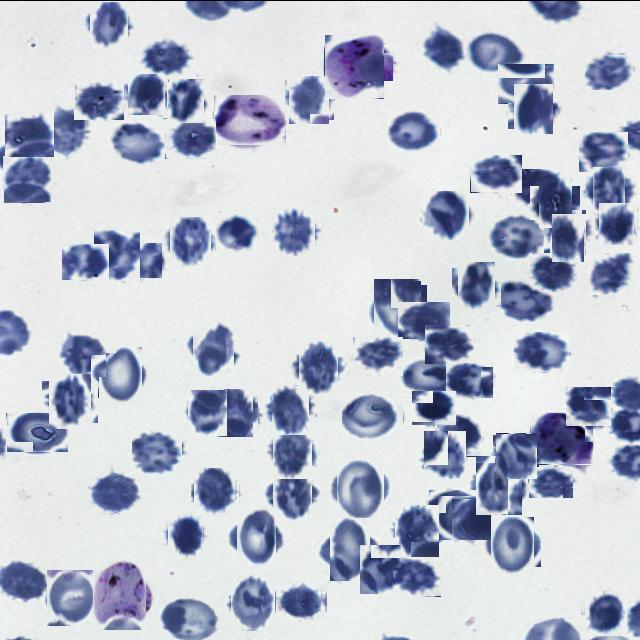difficult: (324, 34, 384, 98)
red blood cell: (332, 460, 388, 516), (370, 280, 424, 334), (472, 458, 526, 512), (342, 392, 403, 439), (108, 117, 167, 164), (44, 570, 96, 622), (324, 523, 376, 575), (487, 518, 538, 570), (488, 210, 543, 258), (95, 350, 146, 401), (228, 576, 278, 628), (495, 279, 552, 323), (188, 324, 238, 374), (6, 412, 68, 452), (437, 495, 491, 540), (232, 510, 280, 560), (46, 376, 94, 426), (131, 429, 182, 475), (94, 229, 140, 280), (268, 468, 316, 516), (394, 506, 442, 554), (3, 155, 51, 203), (468, 30, 524, 71), (513, 331, 569, 372), (429, 489, 477, 536), (422, 190, 469, 238), (498, 63, 554, 103), (296, 342, 342, 390), (5, 111, 54, 156), (400, 354, 458, 392), (56, 332, 106, 376), (388, 109, 440, 151), (168, 218, 214, 264), (272, 208, 318, 254), (88, 472, 140, 512), (358, 545, 403, 591), (422, 431, 468, 476), (578, 131, 628, 172), (165, 118, 216, 158), (270, 430, 316, 474), (436, 412, 482, 456), (510, 86, 556, 130), (76, 79, 126, 119), (141, 37, 191, 77), (494, 432, 538, 477), (275, 582, 327, 620), (470, 154, 522, 192), (108, 242, 162, 278), (268, 387, 312, 431), (193, 468, 237, 512), (288, 77, 332, 121), (88, 1, 132, 45), (588, 252, 634, 294), (398, 301, 450, 338), (49, 106, 88, 155), (353, 336, 403, 374), (422, 25, 463, 71), (512, 168, 561, 206), (425, 324, 474, 362), (392, 558, 441, 596), (455, 264, 498, 307), (212, 391, 255, 434), (565, 386, 611, 426), (547, 212, 590, 254), (186, 391, 228, 434), (583, 592, 625, 634), (534, 181, 576, 223), (532, 250, 576, 290), (445, 362, 493, 398), (585, 52, 633, 88), (548, 216, 590, 257), (62, 243, 109, 279), (166, 516, 207, 557), (165, 80, 206, 121), (216, 213, 258, 252), (590, 169, 630, 209), (127, 74, 167, 114), (411, 390, 456, 425), (596, 204, 636, 242), (356, 42, 394, 80), (528, 466, 573, 498)
trophozoite: (88, 563, 150, 625), (214, 94, 286, 144), (530, 412, 593, 464)
